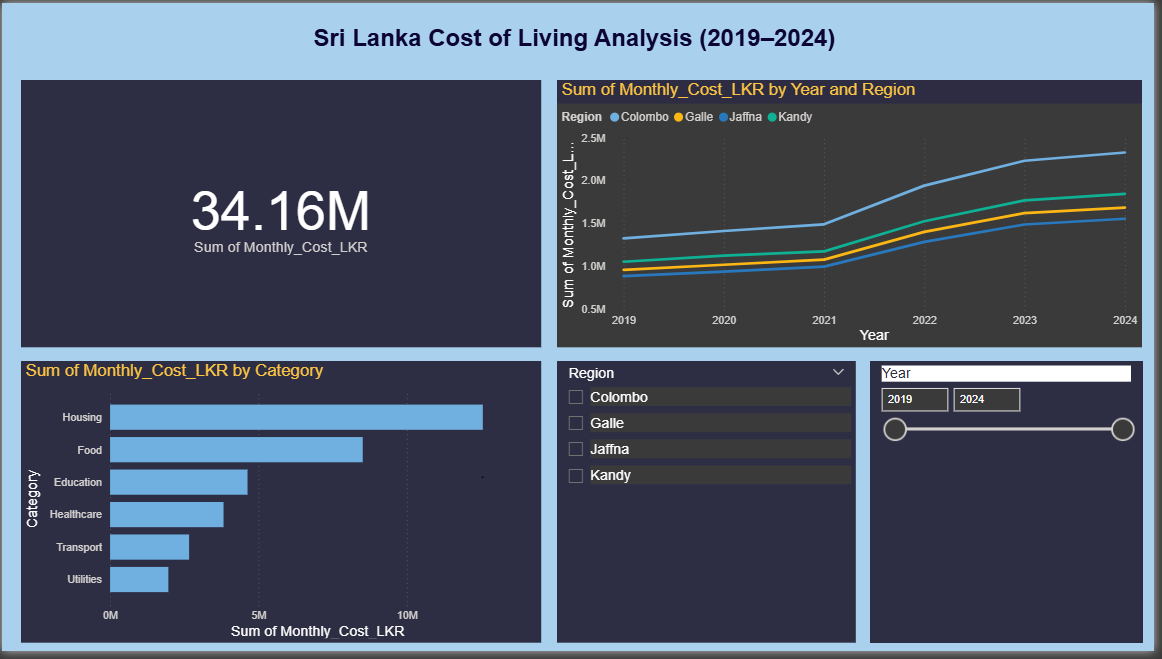

Layout of this report page (visuals, bound fields, positions):
{"tool":"powerbi","page":{"name":"Page 1","canvas":[1280,720],"ordinal":0},"visuals":[{"type":"card","fields":{"Values":["Sum(sl_cost_of_living.Monthly_Cost_LKR)"]},"box":[21,85.5,577.5,297.3],"z":0},{"type":"lineChart","fields":{"Category":["sl_cost_of_living.Year"],"Y":["Sum(sl_cost_of_living.Monthly_Cost_LKR)"],"Series":["sl_cost_of_living.Region"]},"box":[617,85.5,649.9,297.3],"z":1000},{"type":"clusteredBarChart","fields":{"Category":["sl_cost_of_living.Category"],"Y":["Sum(sl_cost_of_living.Monthly_Cost_LKR)"]},"box":[21,397.3,577.5,313.1],"z":2000},{"type":"slicer","fields":{"Values":["sl_cost_of_living.Region"]},"box":[617,397.3,331.5,313.1],"z":3000},{"type":"slicer","fields":{"Values":["sl_cost_of_living.Year"]},"box":[964.3,397.3,302.6,313.1],"z":4000},{"type":"textbox","box":[340.7,18.4,598.6,57.9],"z":5000}]}

Visuals, with their boxes in screenshot pixels (x1, y1, x2, y2), scaled from the page's 1280x720 canvas onto the 1162x659 screenshot:
card - Sum(sl_cost_of_living.Monthly_Cost_LKR): (19,78,543,350)
lineChart - sl_cost_of_living.Year x Sum(sl_cost_of_living.Monthly_Cost_LKR): (560,78,1150,350)
clusteredBarChart - sl_cost_of_living.Category x Sum(sl_cost_of_living.Monthly_Cost_LKR): (19,364,543,650)
slicer - sl_cost_of_living.Region: (560,364,861,650)
slicer - sl_cost_of_living.Year: (875,364,1150,650)
textbox: (309,17,853,70)
